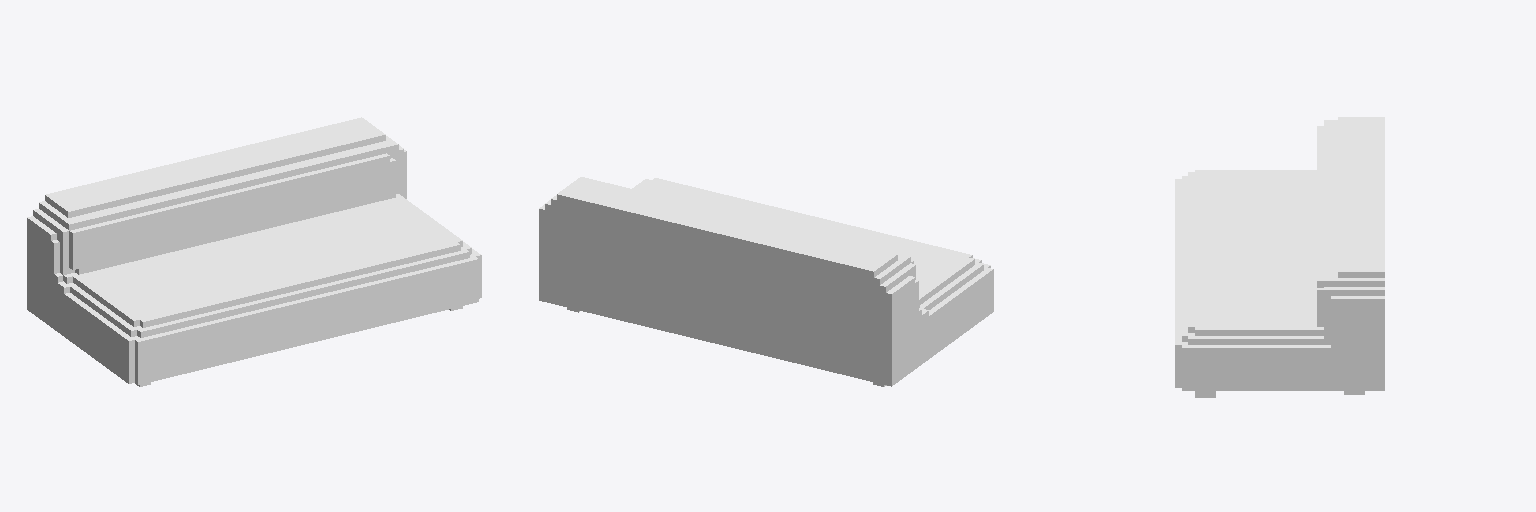
Rendered from sofa-green.vox.obj.
3 renders of one model, left to right at view 1: azimuth 30°, elevation 25°; view 2: azimuth 150°, elevation 25°; view 3: azimuth 270°, elevation 25°, orthographic.
Visible parts, largest first — view 1: object 1; view 2: object 1; view 3: object 1.
Boxes of the visible parts, <box> form: object 1: <box>27,117,481,386</box>; object 1: <box>539,177,993,386</box>; object 1: <box>1175,117,1384,397</box>.
Size of the model in its own units: 6 by 2 by 3.1.